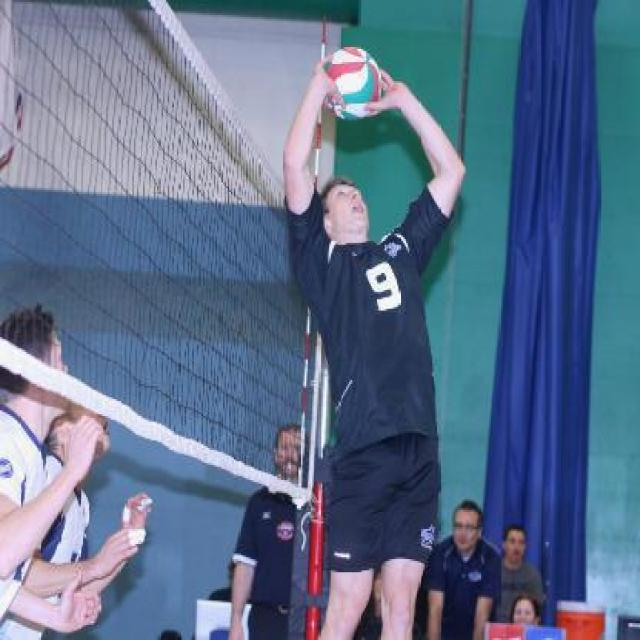volleyball: (322, 48, 382, 120)
